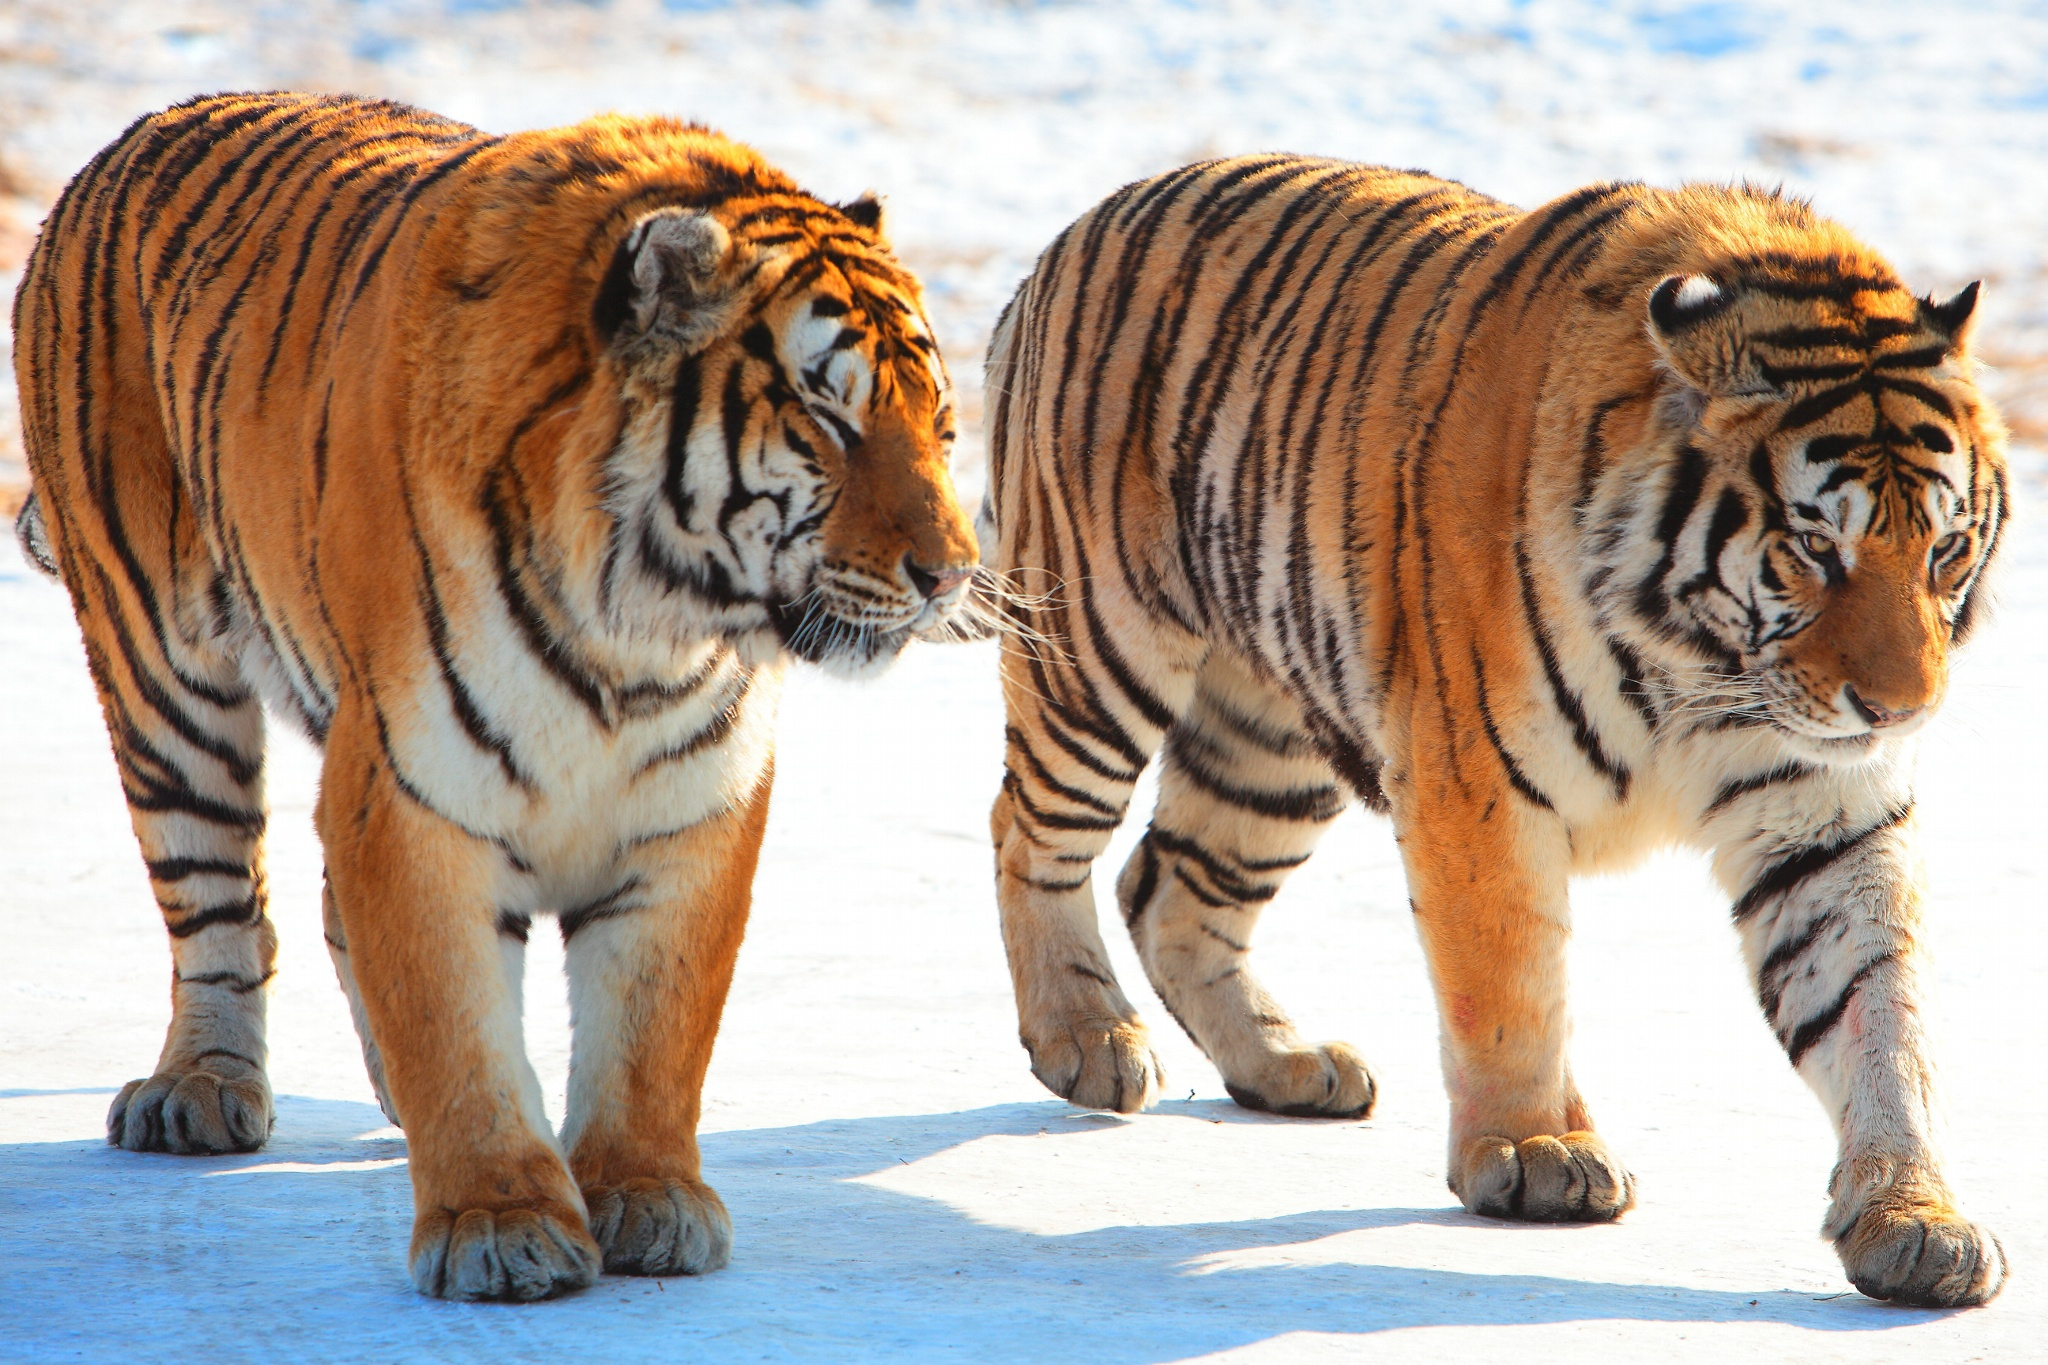tiger: (939, 158, 2030, 1356), (18, 75, 976, 1335)
